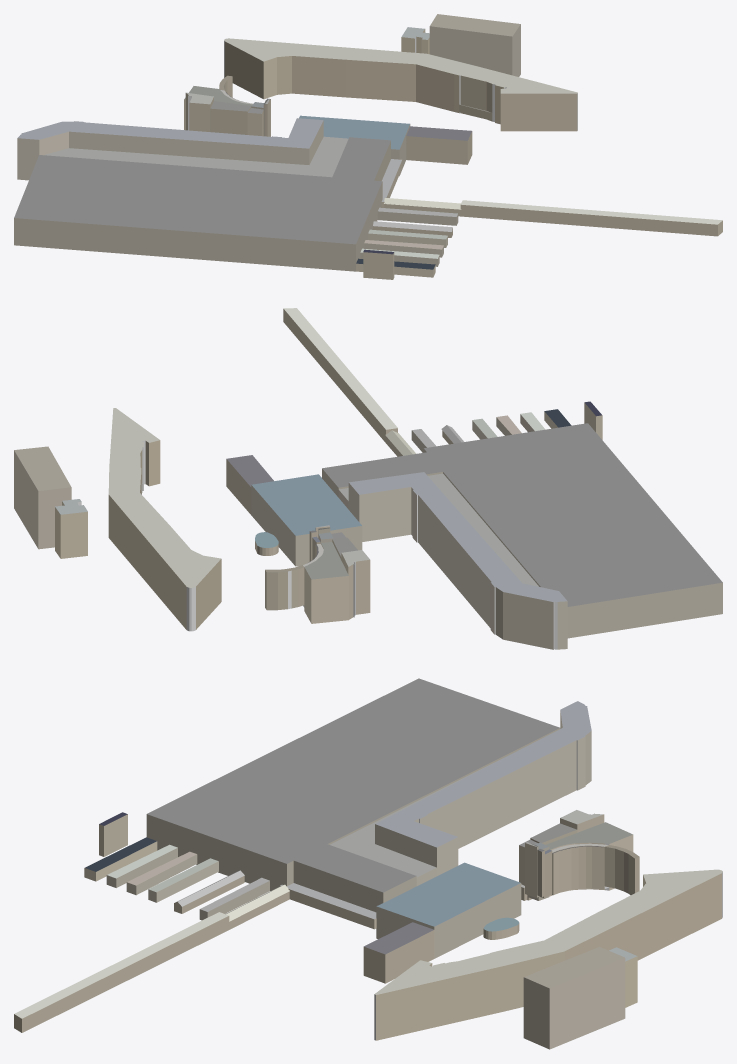
3 views of the same model, one above another, from view 1: azimuth 30°, elevation 25°; view 2: azimuth 150°, elevation 25°; view 3: azimuth 270°, elevation 25° (orthographic). The views are drawn at different scales.
Visible parts, largest first — view 1: tuile; view 2: tuile; view 3: tuile.
Part boxes in pixels (<box>): tuile: <box>14,14,722,279</box>; tuile: <box>14,308,722,649</box>; tuile: <box>14,678,722,1049</box>.
Size of the model in its own units: 373 by 36.28 by 337.
